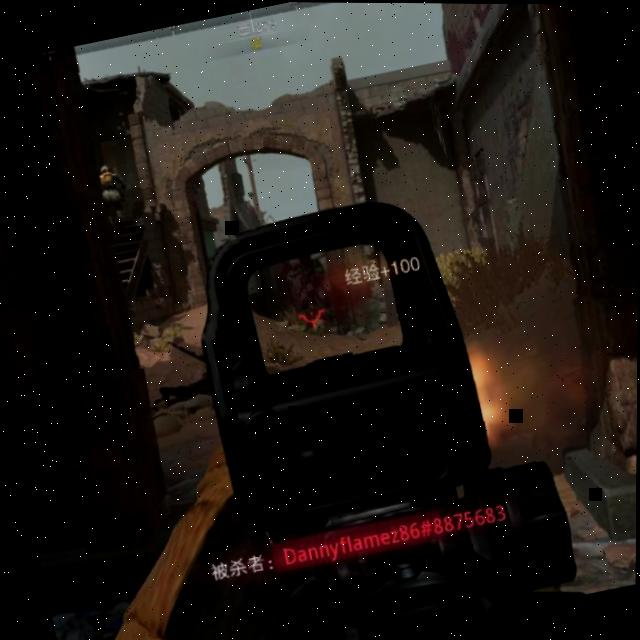MW2_body: (286, 251, 340, 334), (96, 161, 136, 232)
